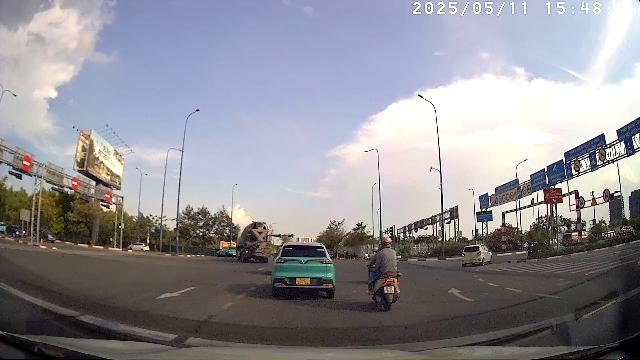103a-cam-oto: (602, 188, 610, 202), (577, 196, 585, 208), (574, 160, 580, 172)
